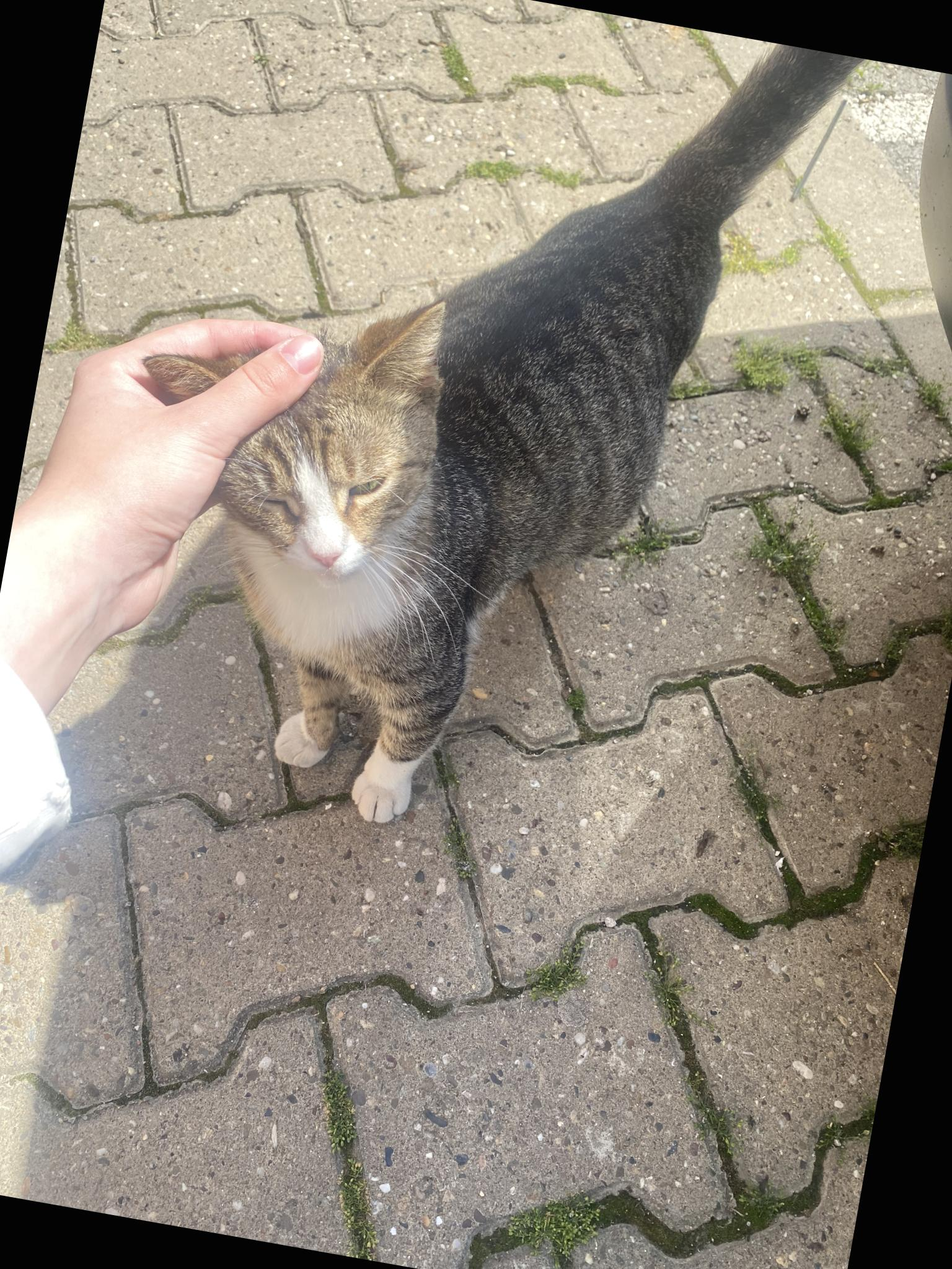macka: (70, 0, 868, 888)
